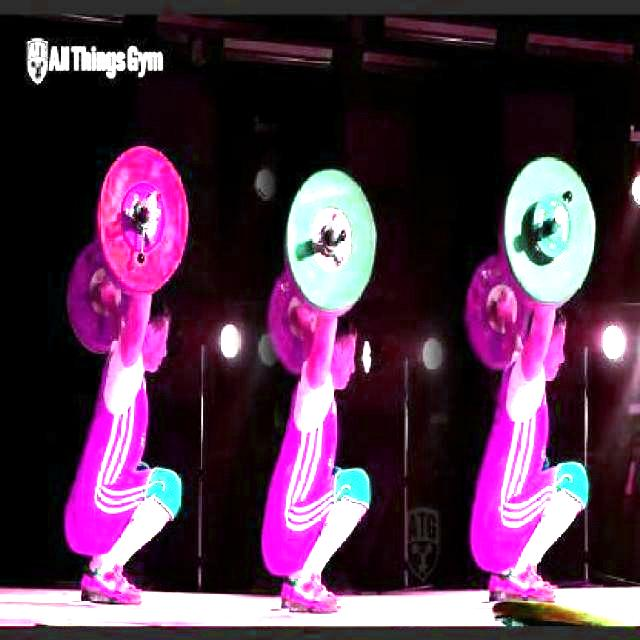barbell: (502, 153, 604, 311), (282, 165, 384, 320), (96, 138, 193, 297)
